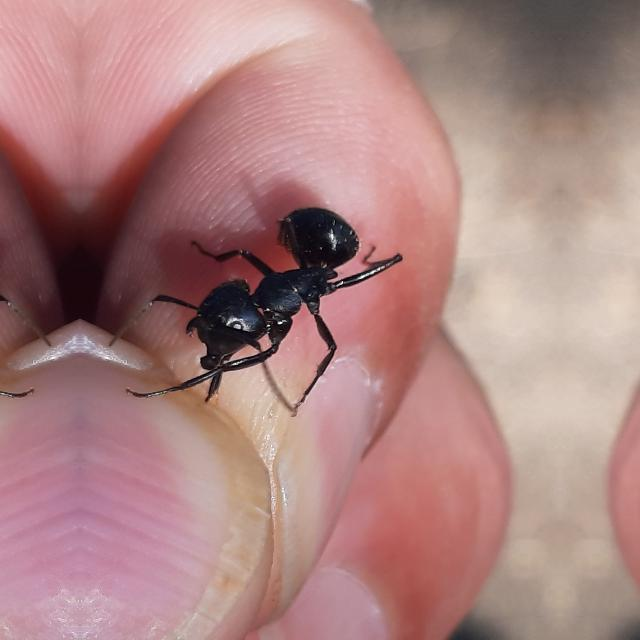Camponotus: (132, 172, 378, 418)
